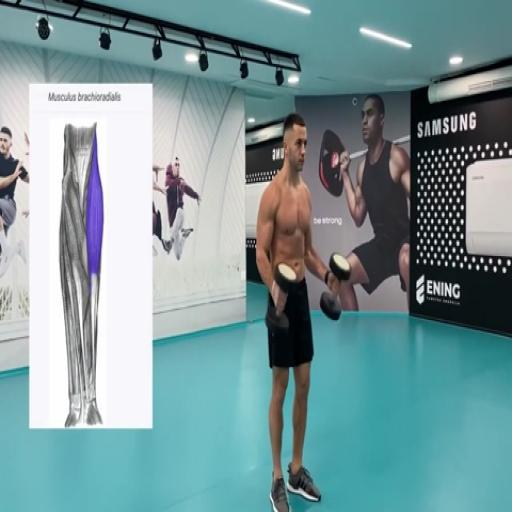exercise: (253, 111, 343, 511), (326, 92, 413, 316)
